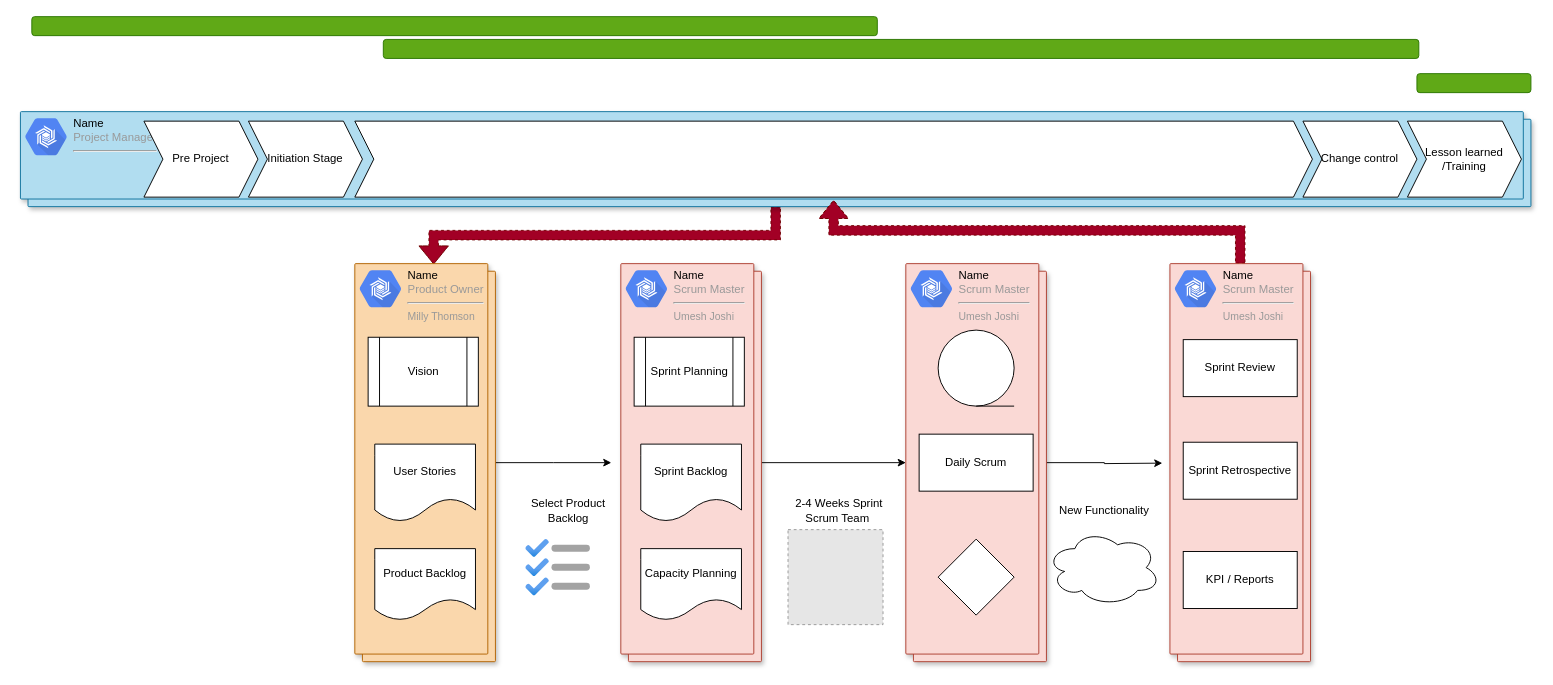
Image size: 1553x685. Some labels were removed from this diagram. Grey dashed boxes stand in for pictures. The shapes that lost their labels are listed below. From the top down, each one's centre as x and y in pixels, then its label:
At [454,26]: "Directing and Managing".
At [900,48]: "Controlling".
At [1473,83]: "Closing".
At [833,158]: "Delivery".
At [975,367]: "24 Hrs".
At [975,576]: "Triage".
At [1102,567]: "Product Increment".
